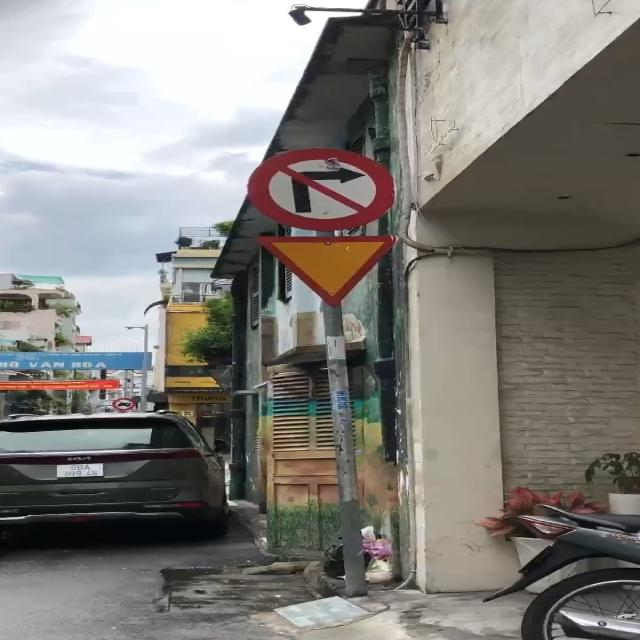Bien bao cam re phai: (236, 144, 398, 229)
Bien bao giao nhau voi duong uu tien: (238, 230, 412, 313)
